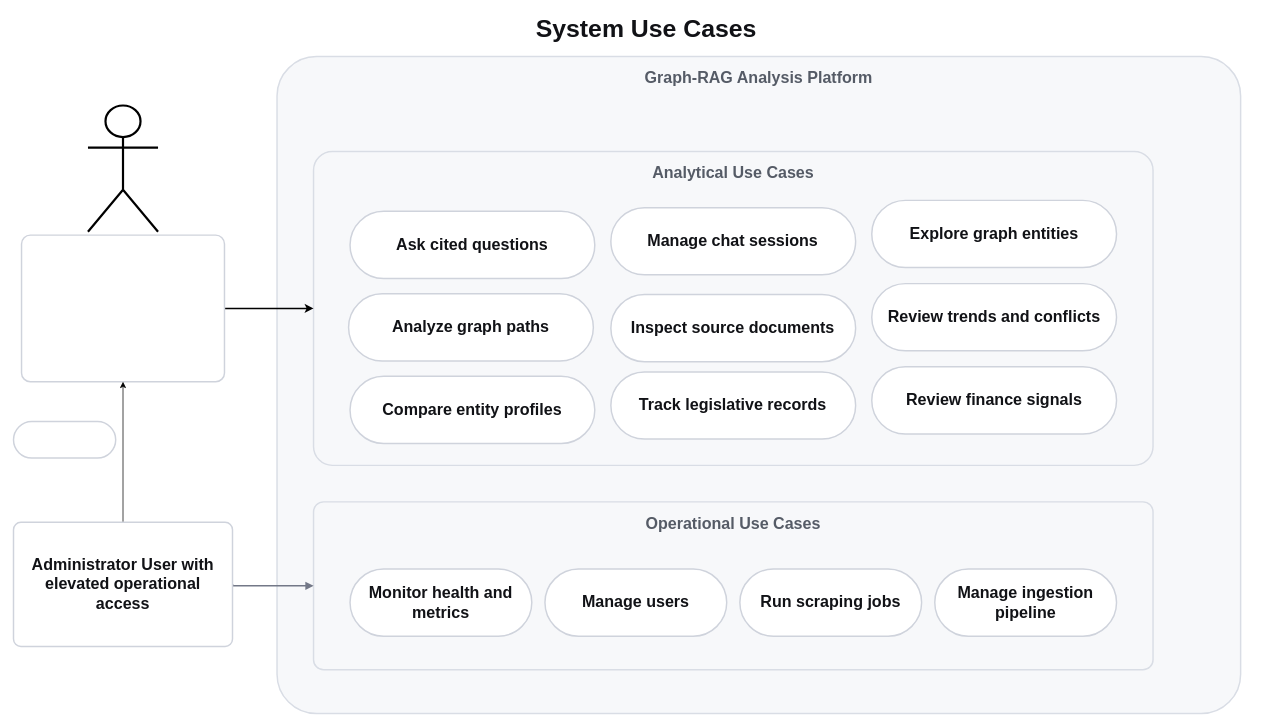
Some shapes in this 1261 by 726 pixel diagram are drawn without their labels. Each missing label, with the centre of its shape:
"Authenticated User Analyst, journalist, or researcher" belongs at (122,308).
"Include" belongs at (64,439).
